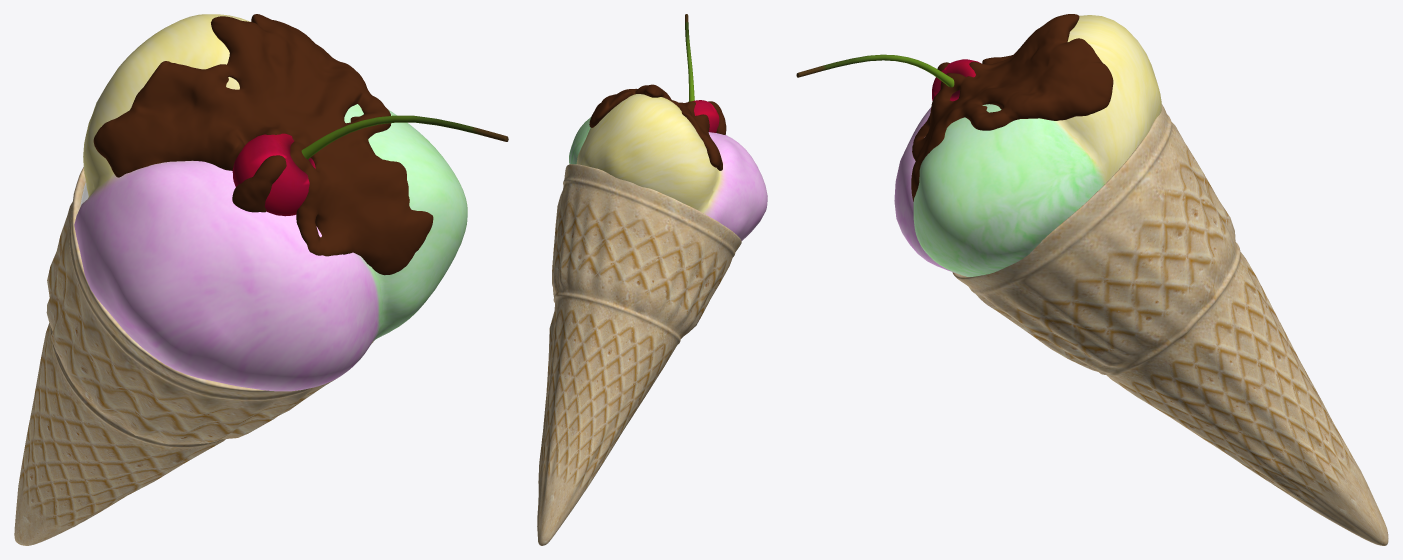
Rendered from Crèmeglacée.glb.
The picture shows the model from 3 angles, left to right: view 1: azimuth 30°, elevation 25°; view 2: azimuth 150°, elevation 25°; view 3: azimuth 270°, elevation 25°; orthographic projection. The views are drawn at different scales.
Parts seen in each view (by area): view 1: node_id3; view 2: node_id3; view 3: node_id3.
Boxes of the visible parts, left/top/right/bottom form: node_id3: left=14, top=14, right=508, bottom=545; node_id3: left=537, top=14, right=767, bottom=545; node_id3: left=796, top=14, right=1388, bottom=545.
Bounding box in the file's own units: 0.4877 × 0.9621 × 0.9711.
Materials: 1 (1 with a texture image).
